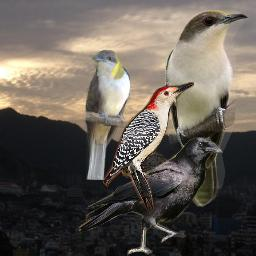Crow: (79, 136, 226, 256)
Cuckoo: (165, 10, 249, 208), (83, 50, 130, 180)
Woodpecker: (102, 82, 194, 213)
